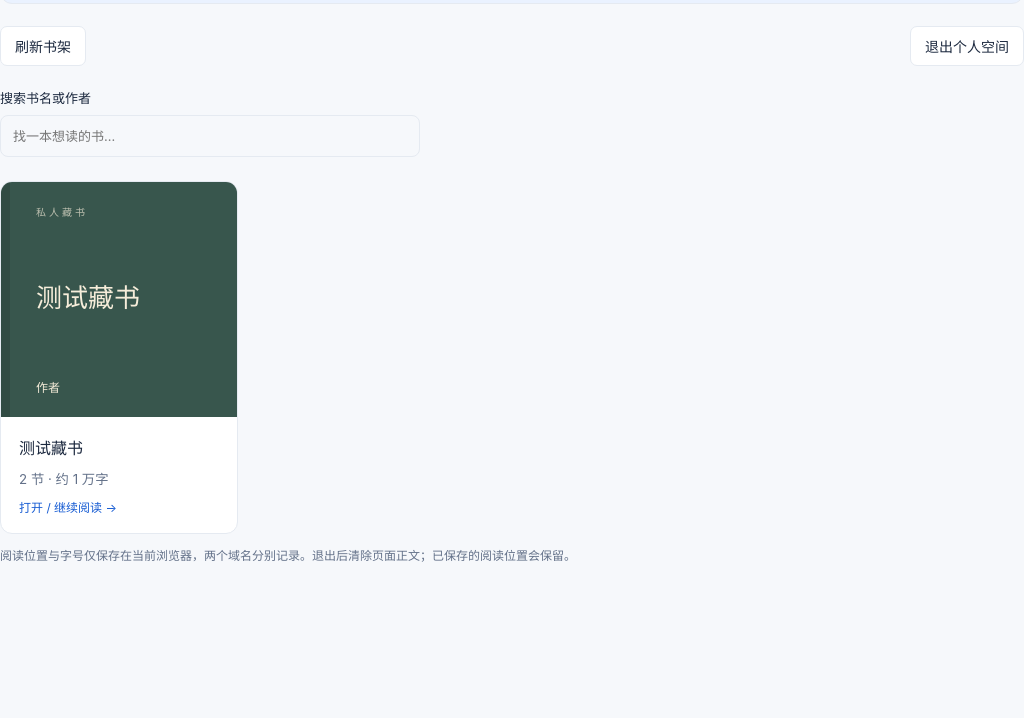
chapter-end controls and persistent navigation respect first/last chapter bounds
This screenshot has width=1024, height=718.
Click the button "私人藏书 测试藏书 作者 测试藏书 2 节 · 约 1 万字 打开 / 继续阅读 →".
click(119, 358)  # box x1=0 y1=181 x2=238 y2=534
(page scrolled)
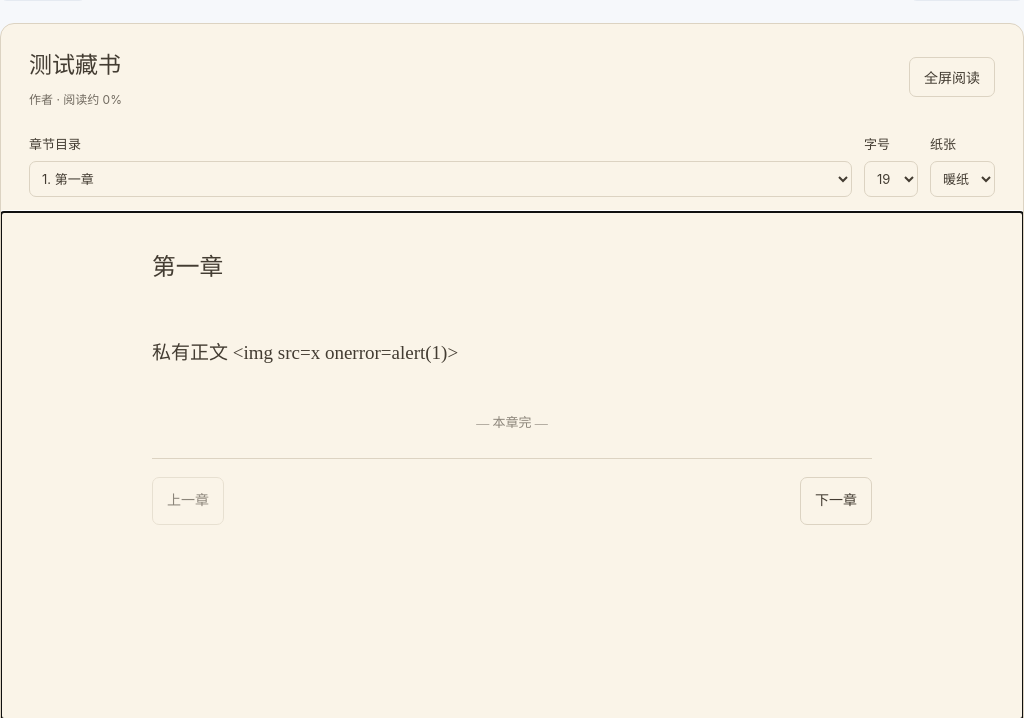
Expected: the element named "小说正文" is shown, x1=152 y1=254 x2=872 y2=543
Expected: the button "上一章" is disabled, x1=152 y1=477 x2=224 y2=525
Click the button "下一章".
click(836, 501)  # box x1=800 y1=477 x2=872 y2=525
(page scrolled)
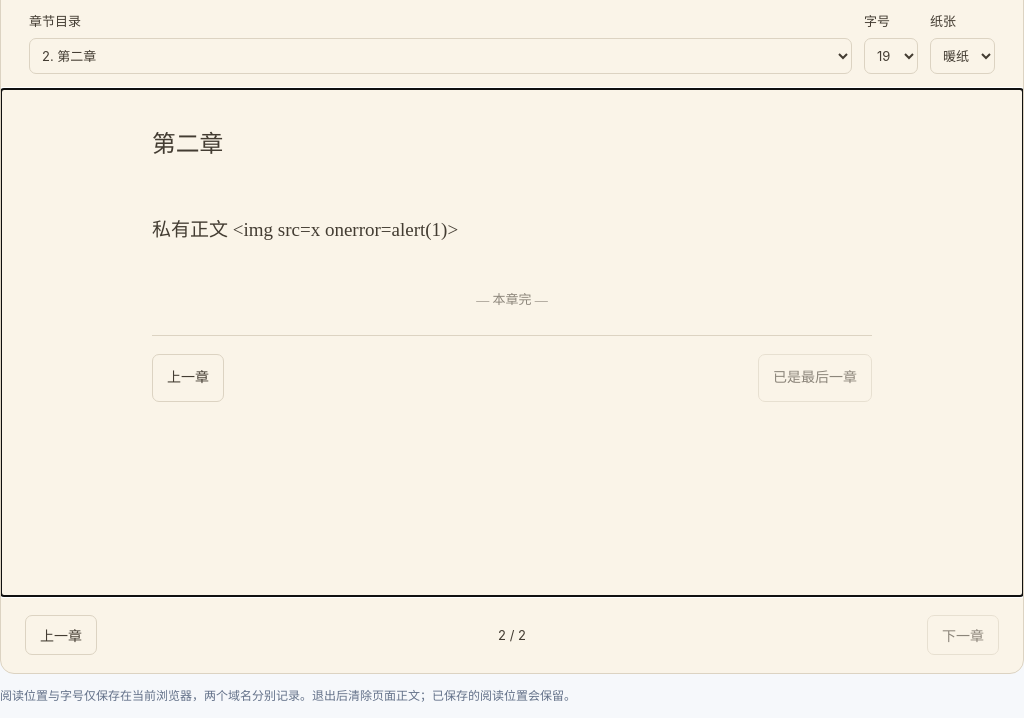
Expected: the heading "第二章" is shown, x1=152 y1=131 x2=223 y2=157
Expected: the button "已是最后一章" is disabled, x1=758 y1=354 x2=872 y2=402
Expected: the button "下一章" is disabled, x1=927 y1=615 x2=999 y2=655
Click the 2nd button "上一章".
click(61, 635)  # box x1=25 y1=615 x2=97 y2=655
(page scrolled)
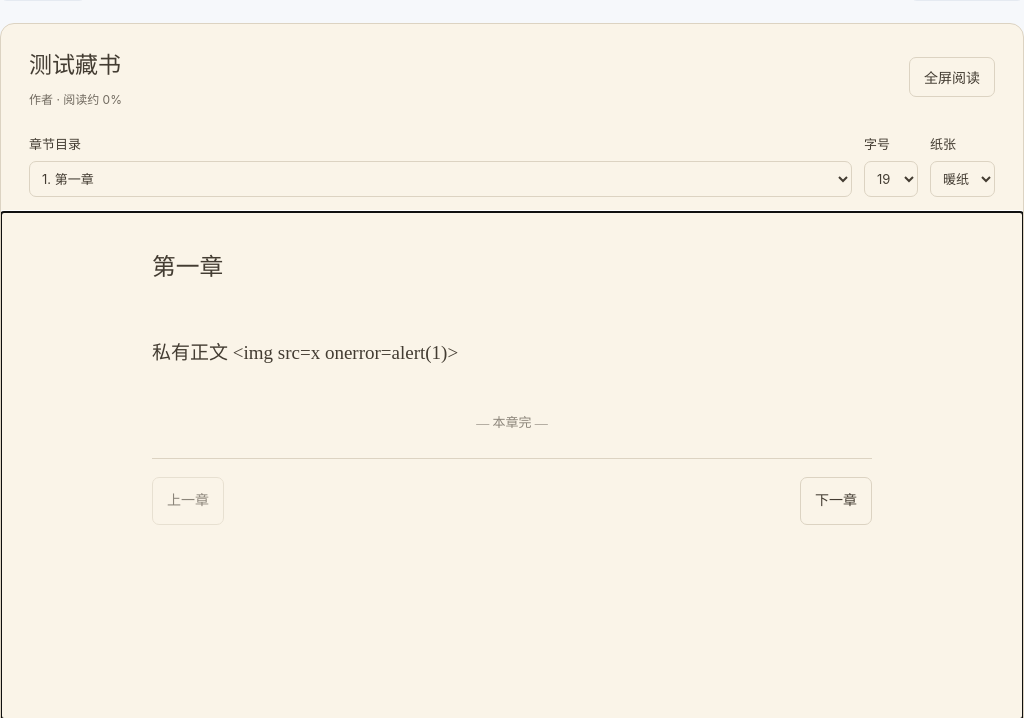
Expected: the heading "第一章" is shown, x1=152 y1=254 x2=223 y2=280
